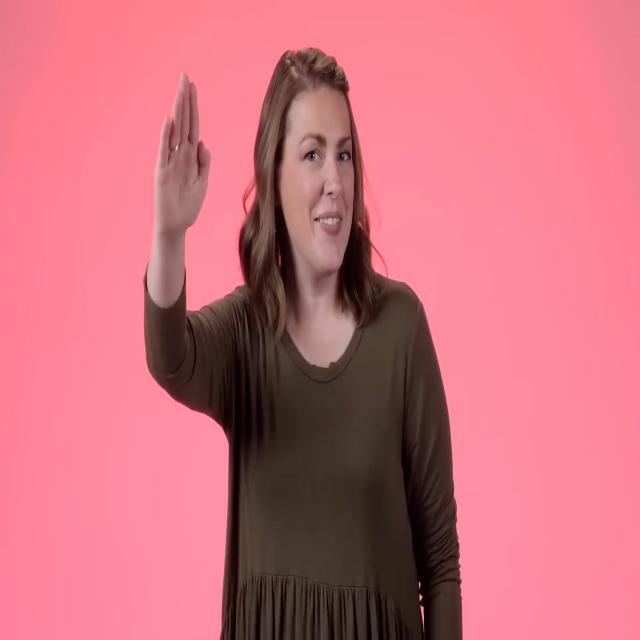hello: (138, 67, 231, 270)
